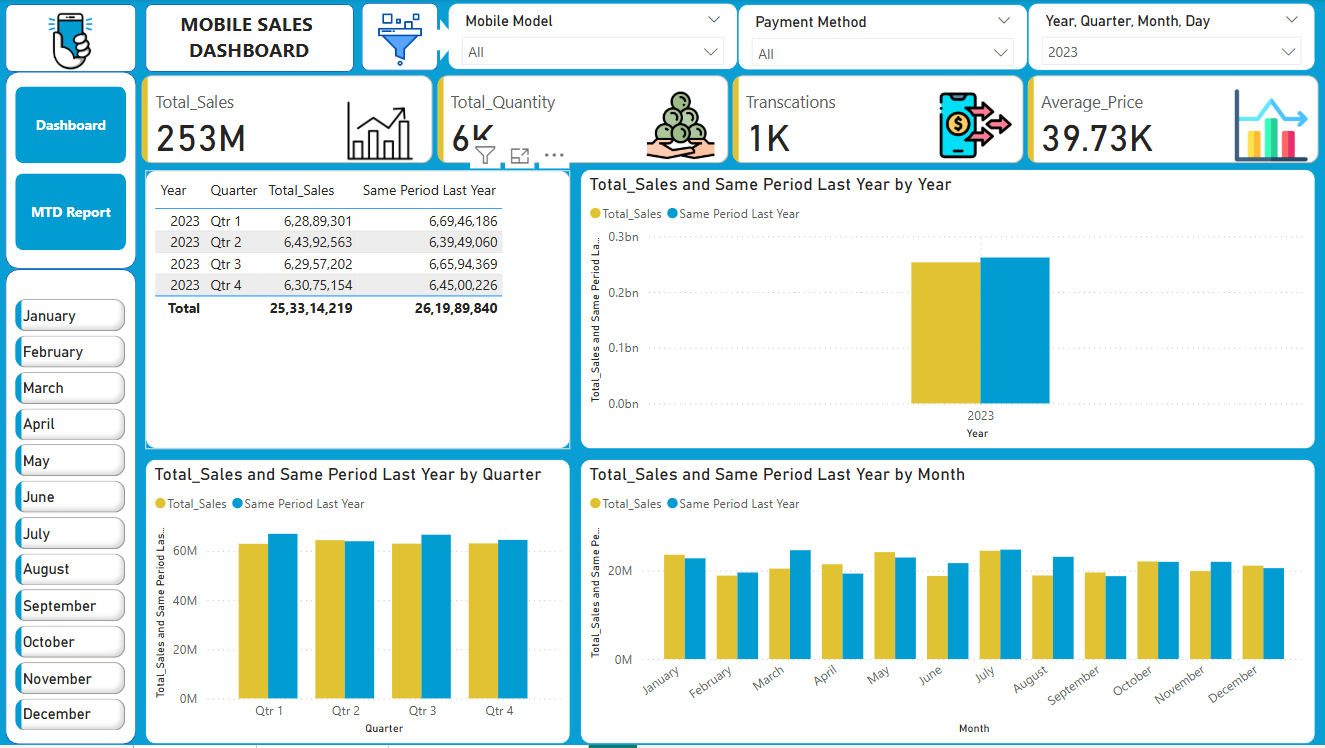

Layout of this report page (visuals, bound fields, positions):
{"tool":"powerbi","page":{"name":"Same Period Last Year","canvas":[1280,720],"ordinal":2},"visuals":[{"type":"shape","box":[6,4.8,126.4,65.6],"z":0},{"type":"image","box":[27.4,0,82.2,81.1],"z":1000},{"type":"shape","box":[6,70,126.7,190.6],"z":2000},{"type":"cardVisual","fields":{"Data":["Mobile_Sales_Data.Total_Sales","Mobile_Sales_Data.Total_Quantity","Mobile_Sales_Data.Transcations","Mobile_Sales_Data.Average_Price"]},"box":[132.3,69.1,1147.9,95.4],"z":3000},{"type":"slicer","fields":{"Values":["Mobile_Sales_Data.Mobile Model"]},"box":[433,4,280,65],"z":4000},{"type":"slicer","fields":{"Values":["Mobile_Sales_Data.Payment Method"]},"box":[713,5,280,64],"z":5000},{"type":"slicer","fields":{"Values":["Custom_Calendar.Date.Variation.Date Hierarchy.Year","Custom_Calendar.Date.Variation.Date Hierarchy.Quarter","Custom_Calendar.Date.Variation.Date Hierarchy.Month","Custom_Calendar.Date.Variation.Date Hierarchy.Day"]},"box":[993,3.6,277.7,65.6],"z":6000},{"type":"shape","box":[350.5,3.6,73.9,65.6],"z":7000},{"type":"image","box":[355.2,8.3,64.4,62],"z":8000},{"type":"shape","box":[408.9,19.1,33.4,40.5],"z":9000},{"type":"shape","box":[140.7,4.8,201.5,65.6],"z":10000},{"type":"textbox","box":[155,6,174,60.8],"z":11000},{"type":"shape","box":[6,261.1,126.4,458.9],"z":12000},{"type":"advancedSlicerVisual","fields":{"Values":["Custom_Calendar.Date.Variation.Date Hierarchy.Month"]},"box":[10.7,284.9,116.8,435.1],"z":13000},{"type":"tableEx","fields":{"Values":["Custom_Calendar.Date.Variation.Date Hierarchy.Year","Custom_Calendar.Date.Variation.Date Hierarchy.Quarter","Mobile_Sales_Data.Total_Sales","Mobile_Sales_Data.Same Period Last Year"]},"box":[141.2,165.3,410.2,269],"z":14000},{"type":"clusteredColumnChart","fields":{"Category":["Custom_Calendar.Date.Variation.Date Hierarchy.Year","Custom_Calendar.Date.Variation.Date Hierarchy.Quarter"],"Y":["Mobile_Sales_Data.Total_Sales","Mobile_Sales_Data.Same Period Last Year"]},"box":[561,164.1,709.4,270.2],"z":14001},{"type":"clusteredColumnChart","fields":{"Y":["Mobile_Sales_Data.Total_Sales","Mobile_Sales_Data.Same Period Last Year"],"Category":["Custom_Calendar.Date.Variation.Date Hierarchy.Year","Custom_Calendar.Date.Variation.Date Hierarchy.Quarter","Custom_Calendar.Date.Variation.Date Hierarchy.Month","Custom_Calendar.Date.Variation.Date Hierarchy.Day"]},"box":[561,444,709.4,275.1],"z":14002},{"type":"clusteredColumnChart","fields":{"Category":["Custom_Calendar.Date.Variation.Date Hierarchy.Year","Custom_Calendar.Date.Variation.Date Hierarchy.Quarter"],"Y":["Mobile_Sales_Data.Total_Sales","Mobile_Sales_Data.Same Period Last Year"]},"box":[141.2,444,410.2,275.1],"z":14003},{"type":"pageNavigator","box":[15.7,84.5,107.4,159.3],"z":14004}]}

Visuals, with their boxes in screenshot pixels (x1, y1, x2, y2), scaled from the page's 1280x720 canvas onto the 1325x748 screenshot:
shape: l=6, t=5, r=137, b=73
image: l=28, t=0, r=113, b=84
shape: l=6, t=73, r=137, b=271
cardVisual - Mobile_Sales_Data.Total_Sales x Mobile_Sales_Data.Total_Quantity: l=137, t=72, r=1324, b=171
slicer - Mobile_Sales_Data.Mobile Model: l=448, t=4, r=738, b=72
slicer - Mobile_Sales_Data.Payment Method: l=738, t=5, r=1028, b=72
slicer - Custom_Calendar.Date.Variation.Date Hierarchy.Year x Custom_Calendar.Date.Variation.Date Hierarchy.Quarter: l=1028, t=4, r=1315, b=72
shape: l=363, t=4, r=439, b=72
image: l=368, t=9, r=434, b=73
shape: l=423, t=20, r=458, b=62
shape: l=146, t=5, r=354, b=73
textbox: l=160, t=6, r=341, b=69
shape: l=6, t=271, r=137, b=747
advancedSlicerVisual - Custom_Calendar.Date.Variation.Date Hierarchy.Month: l=11, t=296, r=132, b=747
tableEx - Custom_Calendar.Date.Variation.Date Hierarchy.Year x Custom_Calendar.Date.Variation.Date Hierarchy.Quarter: l=146, t=172, r=571, b=451
clusteredColumnChart - Custom_Calendar.Date.Variation.Date Hierarchy.Year x Custom_Calendar.Date.Variation.Date Hierarchy.Quarter: l=581, t=170, r=1315, b=451
clusteredColumnChart - Mobile_Sales_Data.Total_Sales x Mobile_Sales_Data.Same Period Last Year: l=581, t=461, r=1315, b=747
clusteredColumnChart - Custom_Calendar.Date.Variation.Date Hierarchy.Year x Custom_Calendar.Date.Variation.Date Hierarchy.Quarter: l=146, t=461, r=571, b=747
pageNavigator: l=16, t=88, r=127, b=253
